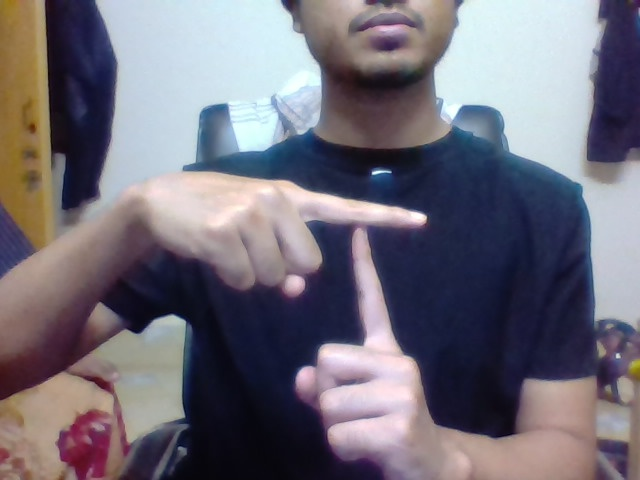T: (323, 178, 446, 334)
